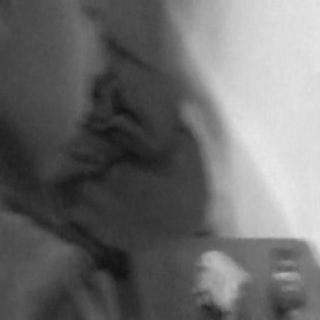other: (63, 58, 208, 234)
